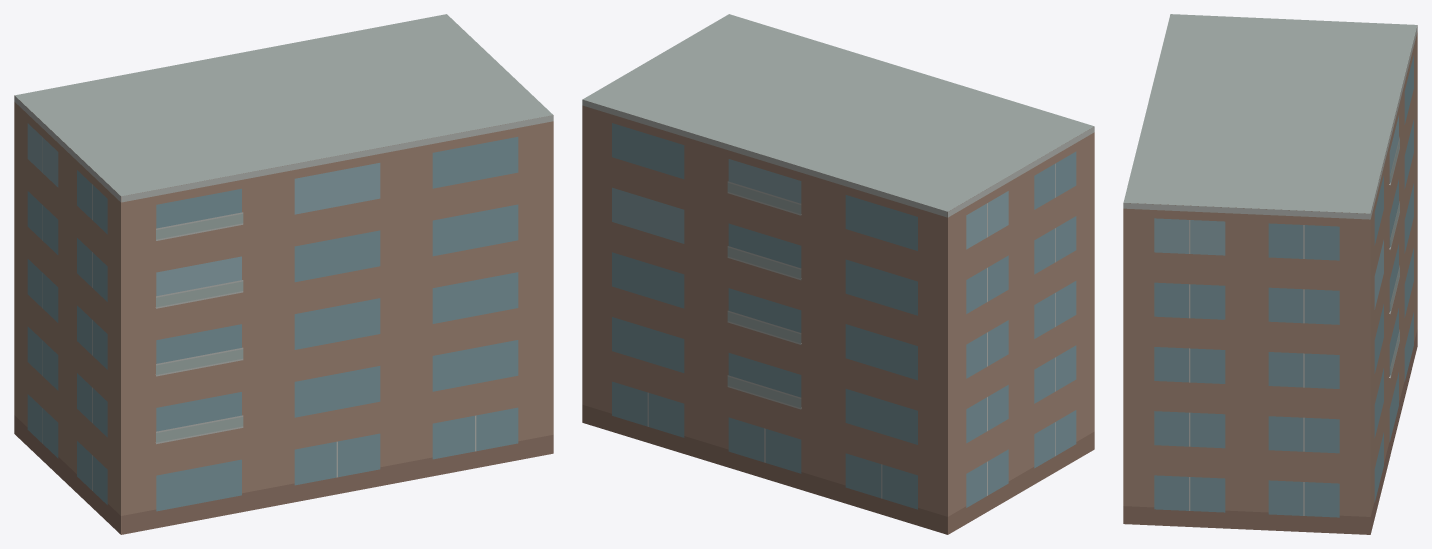
Rendered from survey-upis-32954672.glb.
3 renders of one model, left to right at view 1: azimuth 30°, elevation 25°; view 2: azimuth 150°, elevation 25°; view 3: azimuth 270°, elevation 25°, orthographic. The views are drawn at different scales.
Visible parts, largest first — view 1: survey-upis-32954672.tmp; view 2: survey-upis-32954672.tmp; view 3: survey-upis-32954672.tmp.
Boxes of the visible parts, x1,y1,x2,y2 form: survey-upis-32954672.tmp: (14, 14, 553, 534); survey-upis-32954672.tmp: (582, 14, 1094, 534); survey-upis-32954672.tmp: (1123, 14, 1417, 534).
Size of the model in its own units: 17.81 by 13.35 by 11.09.
